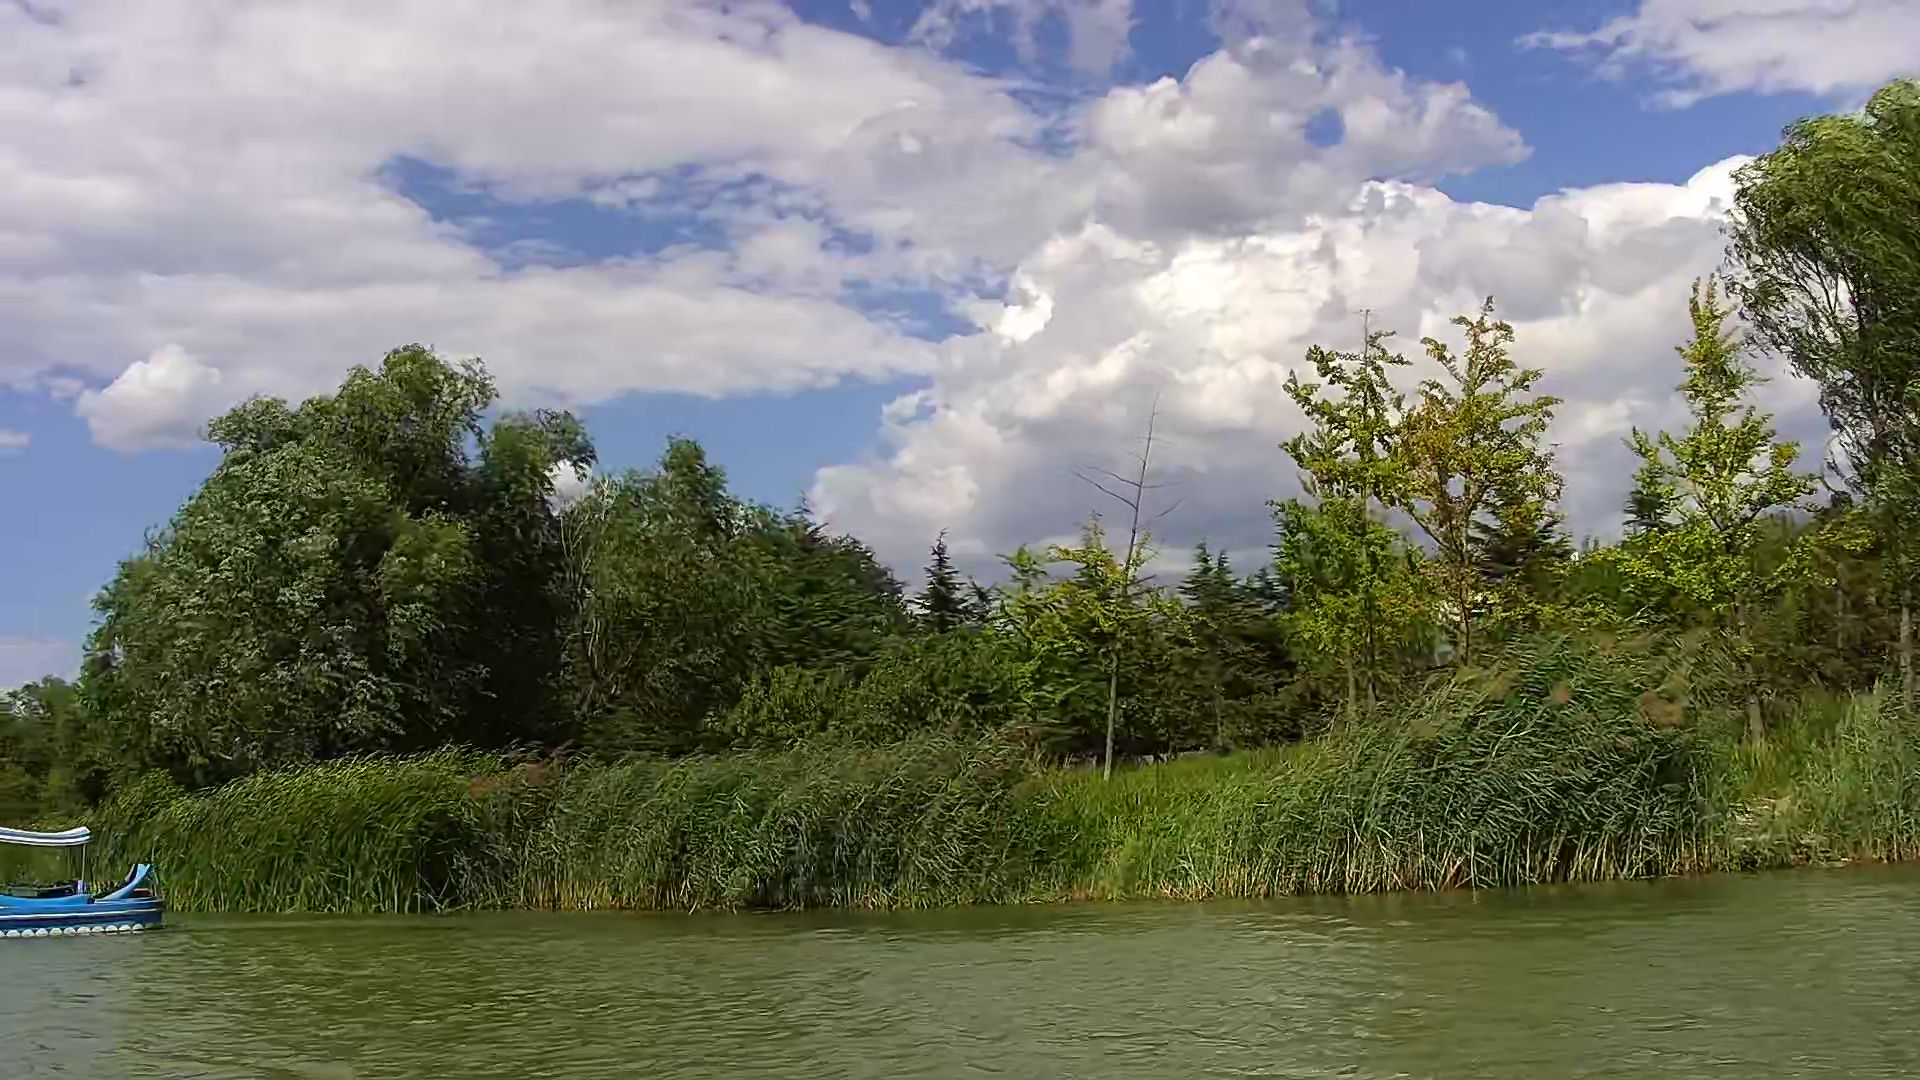boat: (1, 825, 164, 942)
